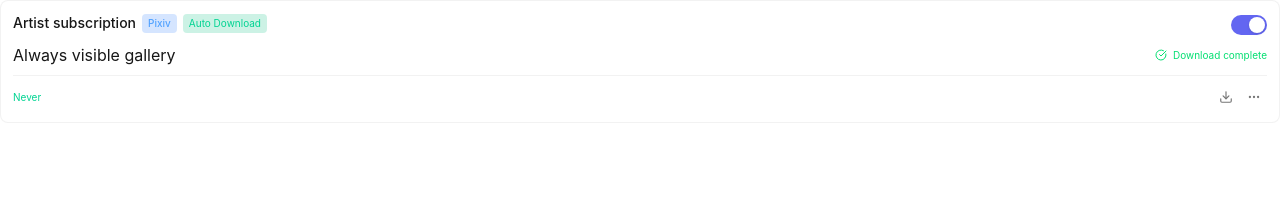
Test case: SubscriptionCard job gallery title › keeps low-frequency actions collapsed behind the compact more control
Expected: the button named "Download Now" is shown, [1213, 84, 1239, 110]
Expected: the link "URL" is not shown
Click the button named "More" at coordinates (1254, 97), box [1241, 84, 1267, 110]
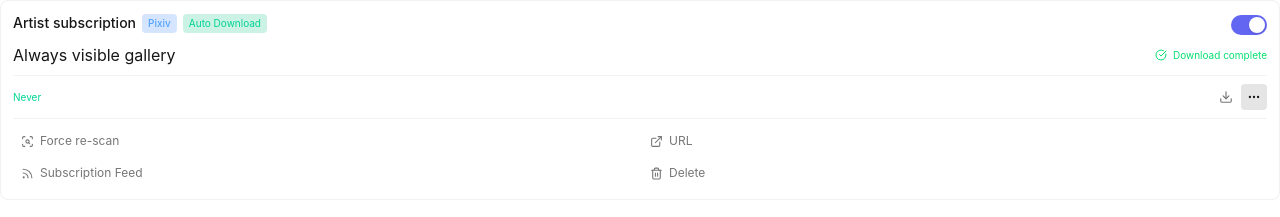
Result: the button "Force re-scan" is shown at [13, 127, 638, 155]
Result: the button "Subscription Feed" is shown at [13, 159, 638, 187]
Result: the button "Delete" is shown at [642, 159, 1267, 187]
